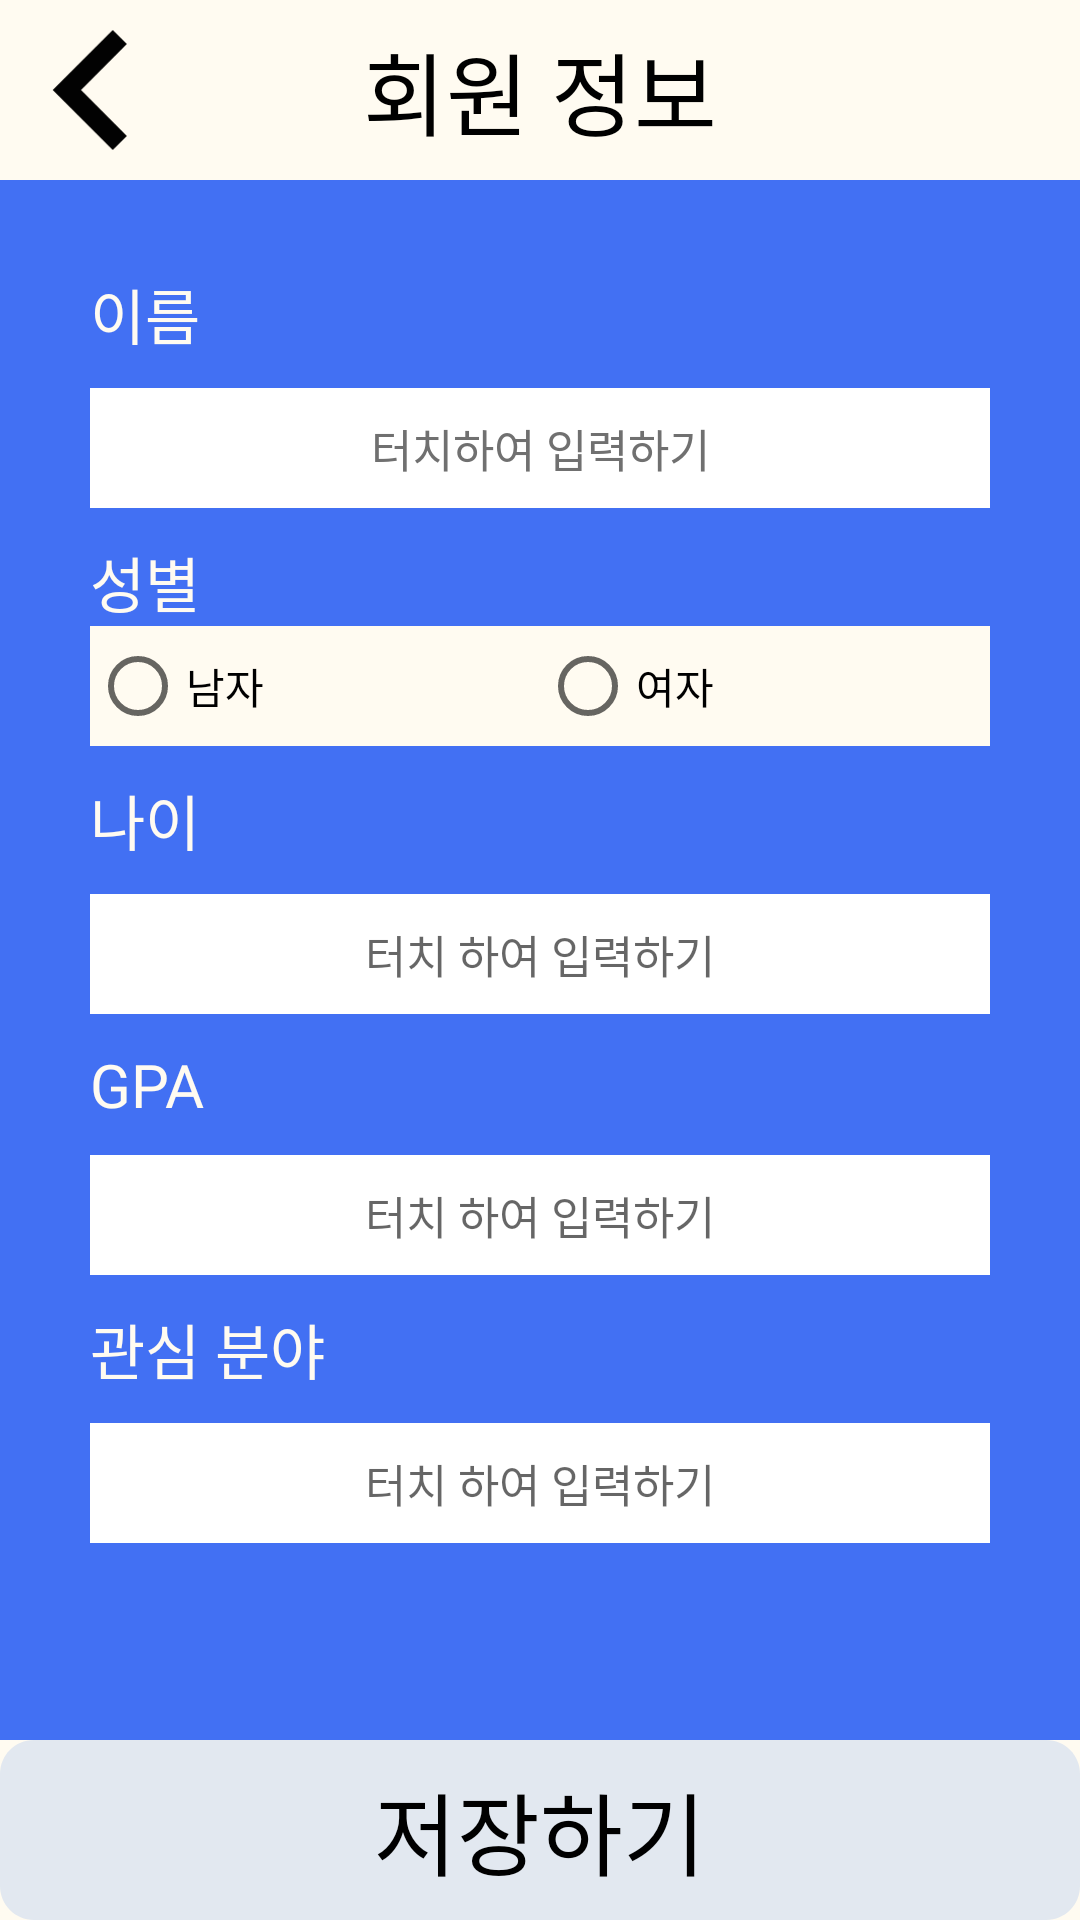

Where icons sit on this 1080*1920 app screen, as (x1,y1,x2,y2):
back: (53,30,127,150)
